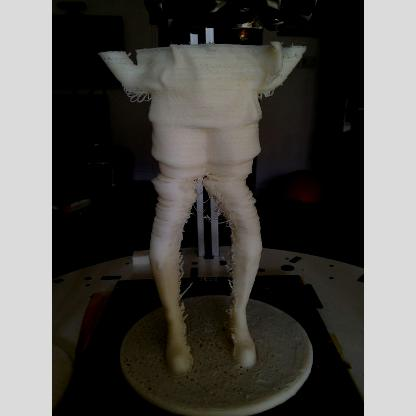fail: (223, 232, 233, 294), (206, 209, 228, 225), (126, 92, 150, 104), (180, 300, 190, 320), (225, 302, 233, 318), (180, 254, 184, 284)
